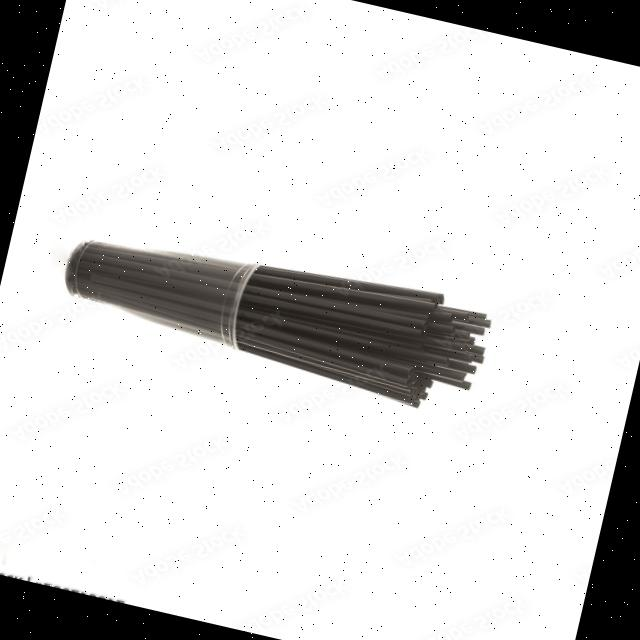plastic: (244, 276, 430, 330)
